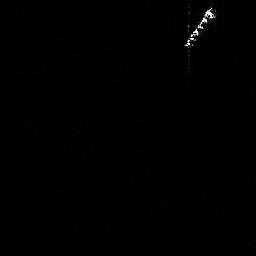ship: (181, 4, 220, 51)
